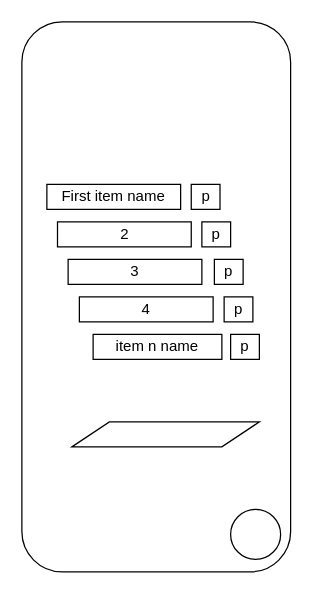
This 313x594 diagram has some shape labels left out. Each missing label, with the box of its shape:
back: (229, 508, 281, 559)
target: (71, 421, 259, 447)
